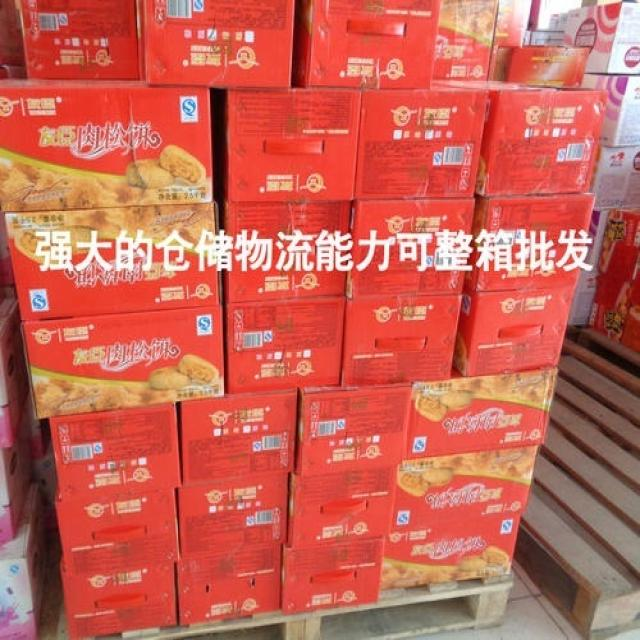box: (0, 77, 212, 211), (4, 203, 221, 321), (22, 306, 225, 419), (433, 78, 608, 197), (353, 84, 489, 201), (227, 88, 364, 201), (406, 362, 558, 461), (134, 0, 294, 88), (390, 446, 540, 537), (292, 0, 442, 89), (344, 197, 475, 296), (225, 201, 352, 303), (465, 193, 596, 291), (49, 402, 180, 499), (225, 296, 344, 394), (452, 285, 579, 376), (294, 381, 412, 477), (340, 293, 461, 386), (55, 482, 179, 572), (182, 390, 298, 485), (379, 520, 521, 591), (18, 0, 140, 81), (175, 474, 288, 560), (59, 555, 177, 637), (287, 467, 398, 549), (175, 545, 282, 625), (279, 538, 385, 615), (0, 482, 51, 640), (562, 0, 639, 75), (433, 0, 499, 81), (586, 267, 639, 356), (0, 298, 31, 447), (582, 71, 640, 148), (493, 46, 590, 89), (0, 415, 32, 544), (590, 144, 640, 211), (598, 208, 640, 284), (581, 207, 611, 271), (492, 0, 531, 48), (568, 267, 599, 326), (0, 210, 17, 298)
